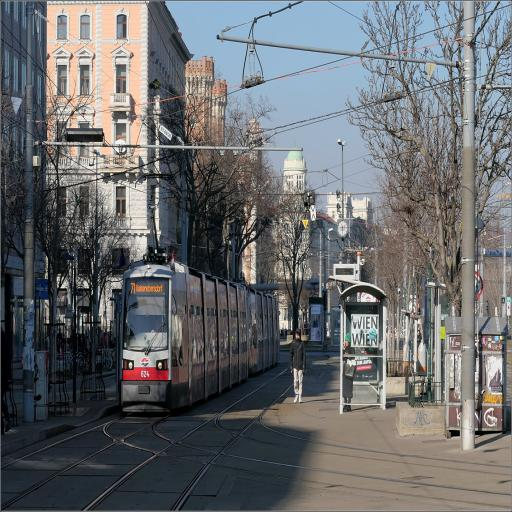ULF: (115, 262, 279, 416)
